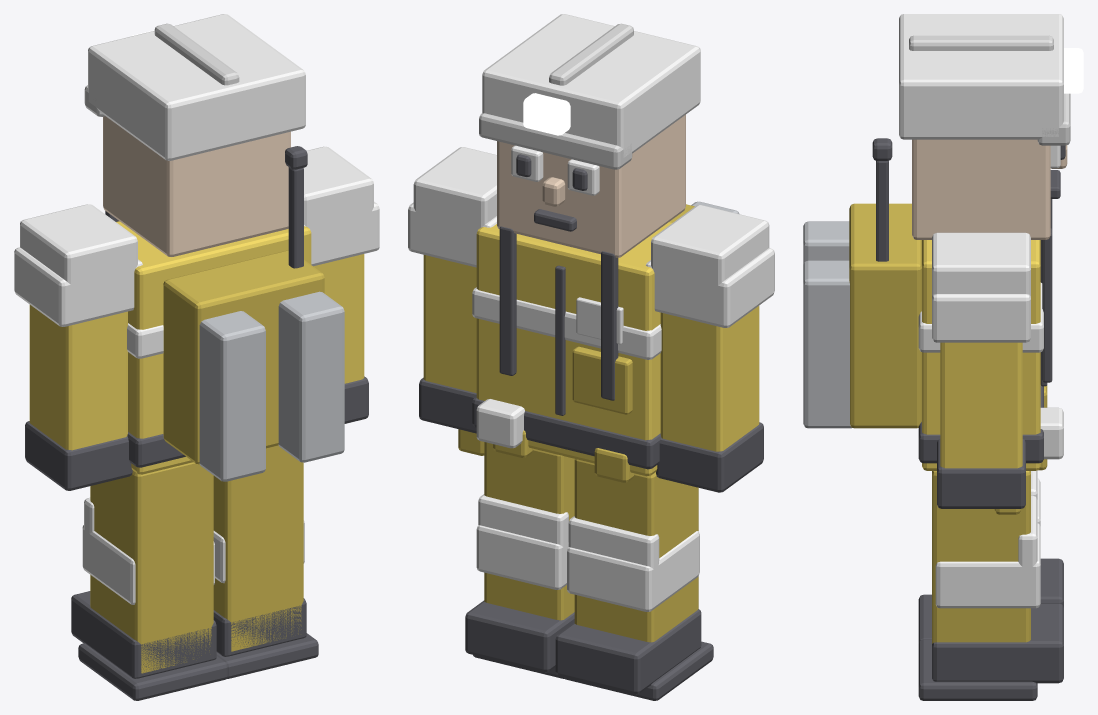
The model's file is персонаж.glb.
The picture shows the model from 3 angles, left to right: view 1: azimuth 30°, elevation 25°; view 2: azimuth 150°, elevation 25°; view 3: azimuth 270°, elevation 25°; orthographic projection.
Visible parts, largest first — view 1: персонаж, PivotLegL_Mesh, PivotArmL_Mesh, PivotLegR_Mesh, PivotArmR_Mesh; view 2: персонаж, PivotArmL_Mesh, PivotLegL_Mesh, PivotLegR_Mesh, PivotArmR_Mesh; view 3: персонаж, PivotArmR_Mesh, PivotLegR_Mesh, PivotLegL_Mesh.
Part boxes in pixels (left/top/right/bottom): персонаж: left=84, top=14, right=344, bottom=481; PivotLegL_Mesh: left=71, top=462, right=227, bottom=700; PivotArmL_Mesh: left=14, top=204, right=142, bottom=490; PivotLegR_Mesh: left=213, top=445, right=318, bottom=678; PivotArmR_Mesh: left=303, top=146, right=379, bottom=423; персонаж: left=458, top=14, right=739, bottom=482; PivotArmL_Mesh: left=646, top=205, right=774, bottom=492; PivotLegL_Mesh: left=555, top=459, right=713, bottom=700; PivotLegR_Mesh: left=465, top=442, right=574, bottom=678; PivotArmR_Mesh: left=408, top=147, right=496, bottom=433; персонаж: left=803, top=14, right=1083, bottom=514; PivotArmR_Mesh: left=932, top=232, right=1030, bottom=508; PivotLegR_Mesh: left=918, top=471, right=1063, bottom=700; PivotLegL_Mesh: left=918, top=470, right=1063, bottom=643.
Bounding box in the file's own units: 1.14 × 2.07 × 0.85.
